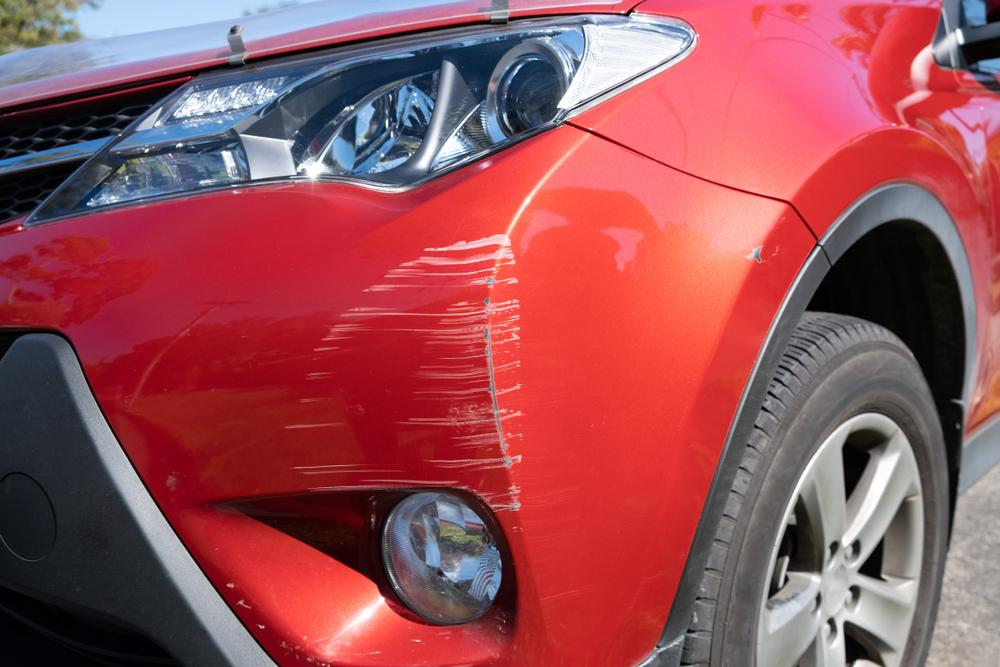scratch: (288, 230, 528, 519)
